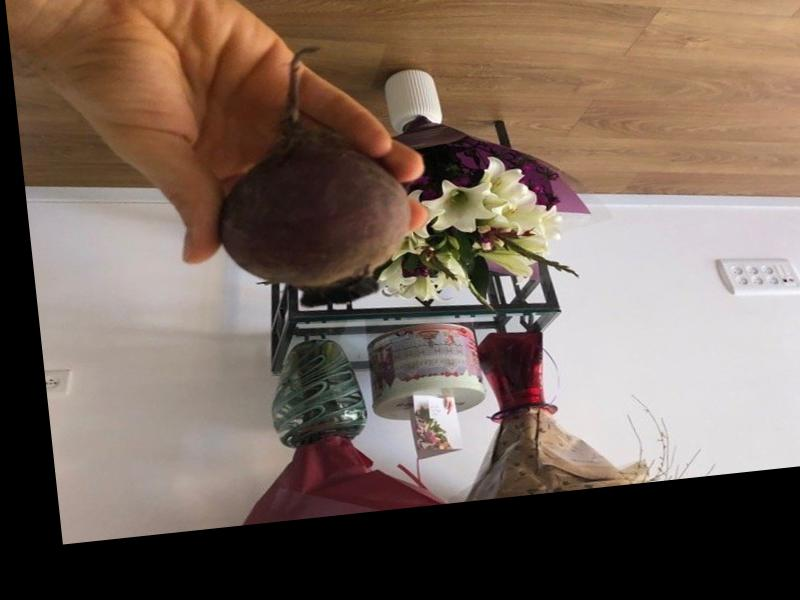Beet: (201, 39, 420, 316)
